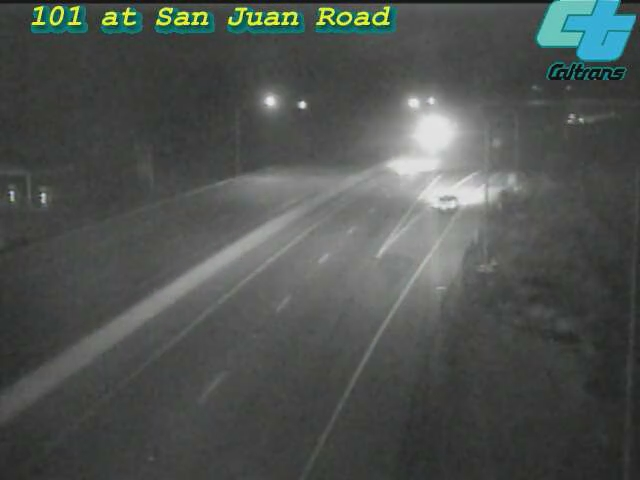vehicle: (371, 126, 451, 206), (403, 166, 483, 246), (407, 104, 457, 154), (550, 93, 600, 143)
